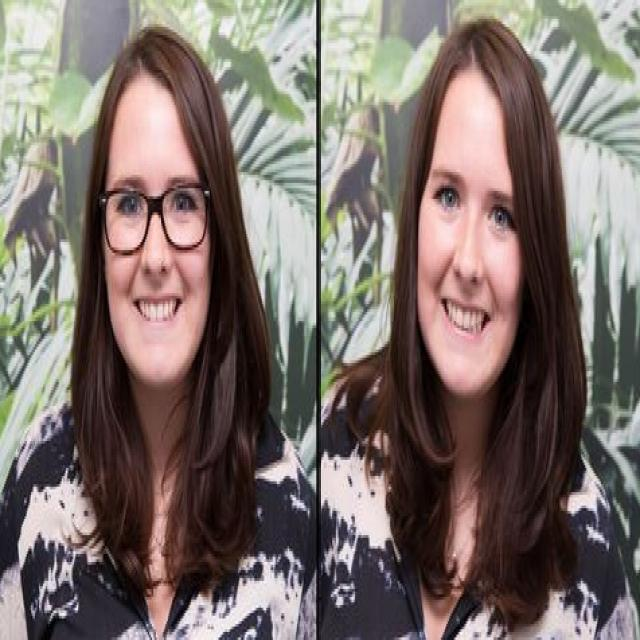Glasses: (100, 177, 212, 257)
